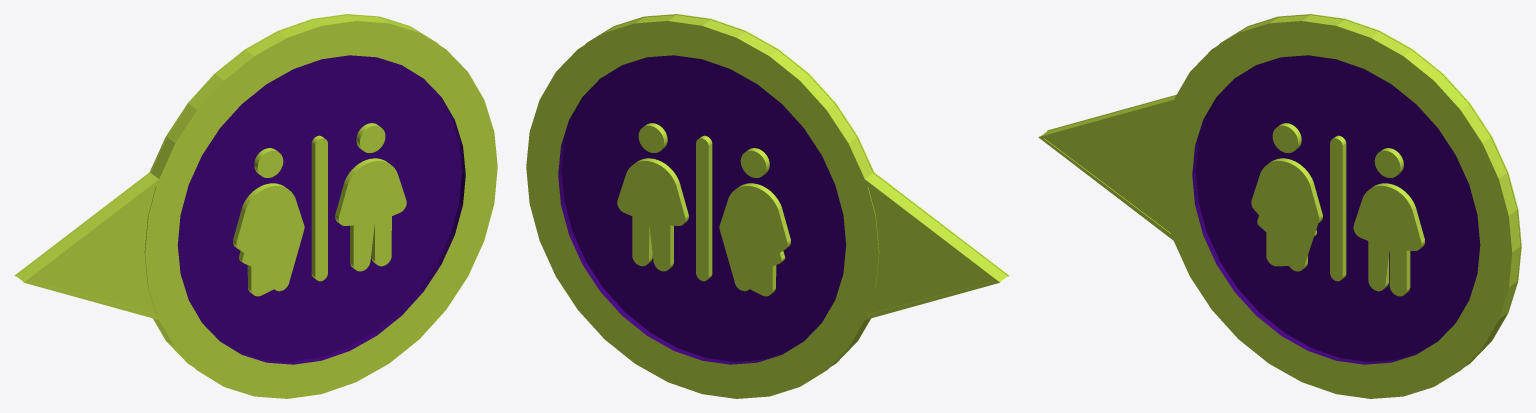
Rendered from Coin_Unisex_Toilet.fbx.
3 views of the same model, side by side, from view 1: azimuth 30°, elevation 25°; view 2: azimuth 150°, elevation 25°; view 3: azimuth 330°, elevation 25° (orthographic).
Parts seen in each view (by area): view 1: Coin.003, Unisex toilets.svg.001; view 2: Coin.003, Unisex toilets.svg.001; view 3: Coin.003, Unisex toilets.svg.001.
Part boxes in pixels (x1=…): Coin.003: x1=14, y1=14, x2=497, y2=398; Unisex toilets.svg.001: x1=233, y1=123, x2=406, y2=296; Coin.003: x1=526, y1=14, x2=1009, y2=398; Unisex toilets.svg.001: x1=617, y1=123, x2=790, y2=296; Coin.003: x1=1038, y1=14, x2=1521, y2=398; Unisex toilets.svg.001: x1=1251, y1=123, x2=1424, y2=296.
Size of the model in its own units: 269 by 200 by 9.4.
